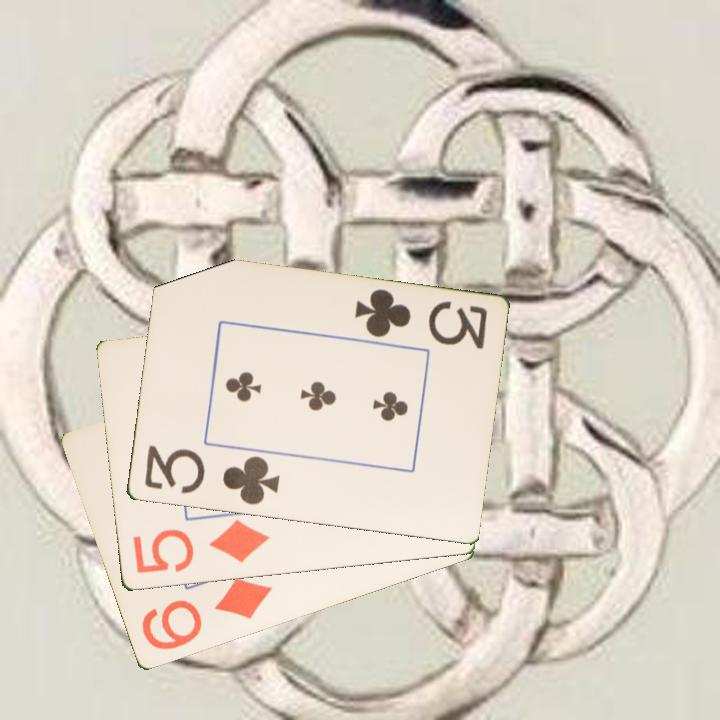3c: (140, 442, 283, 508), (350, 286, 490, 353)
5d: (129, 516, 273, 577)
6d: (137, 574, 276, 654)
